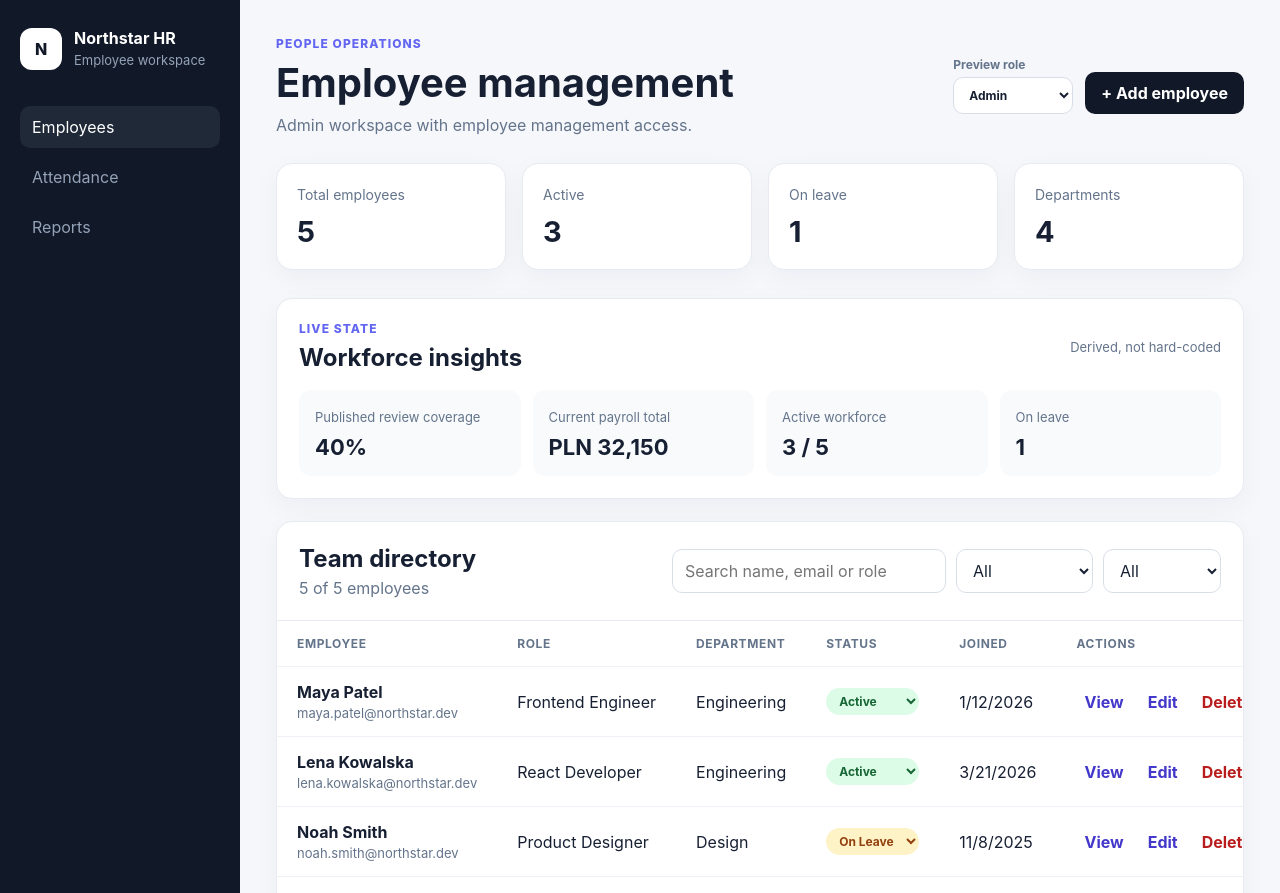
Test: opens employee details and returns to the directory
The width and height of the screenshot is (1280, 893).
Check: the heading "Employee management" is shown, box 276,58 -> 734,107
Click the button with aria-label "View Maya Patel" at (1104, 702), box 1076,686 -> 1132,718
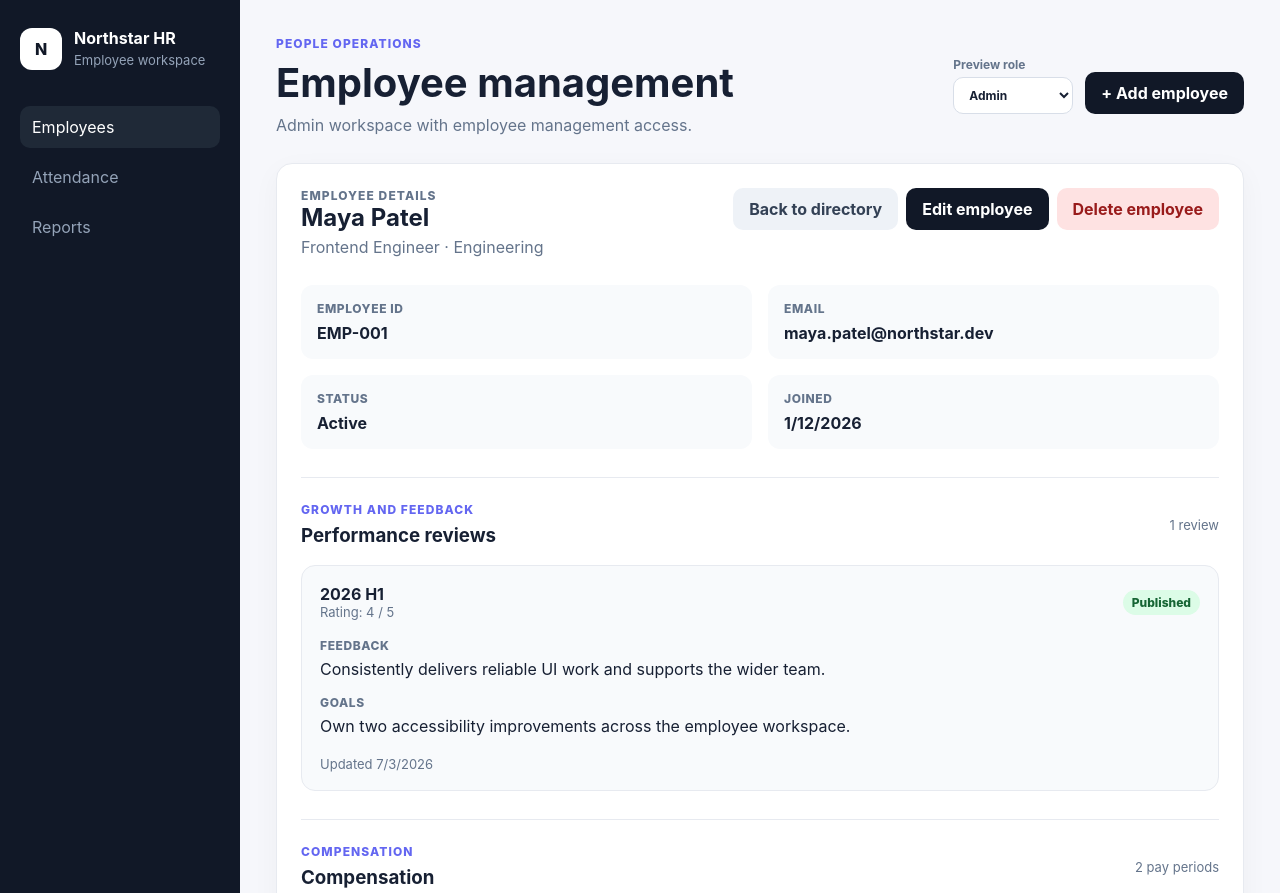
Check: the heading "Maya Patel" is shown, box 301,203 -> 429,232
Check: the text "EMP-001" is shown, box 317,323 -> 388,343
Click the button "Back to directory" at (816, 209), box 733,188 -> 898,230
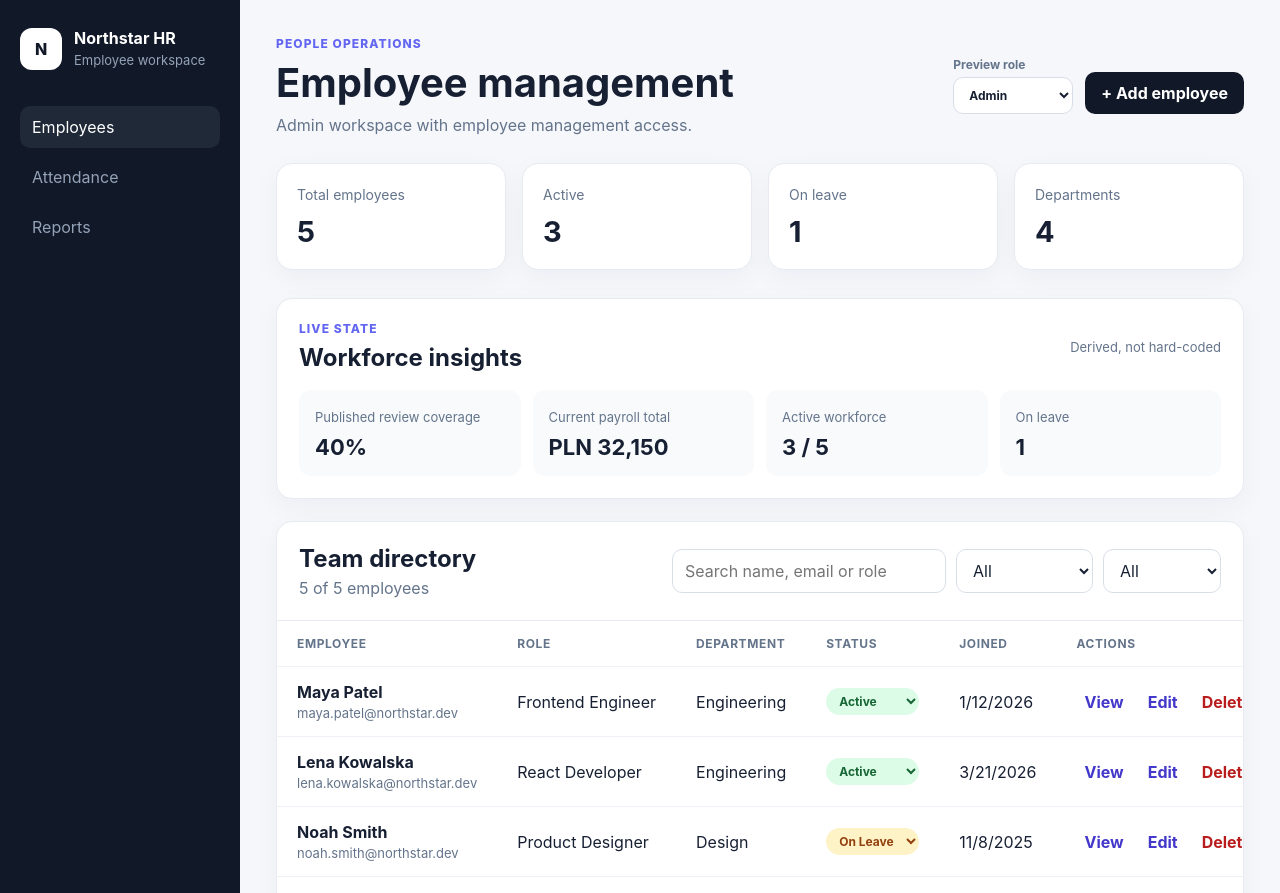
Check: the heading "Team directory" is shown, box 299,544 -> 476,573
